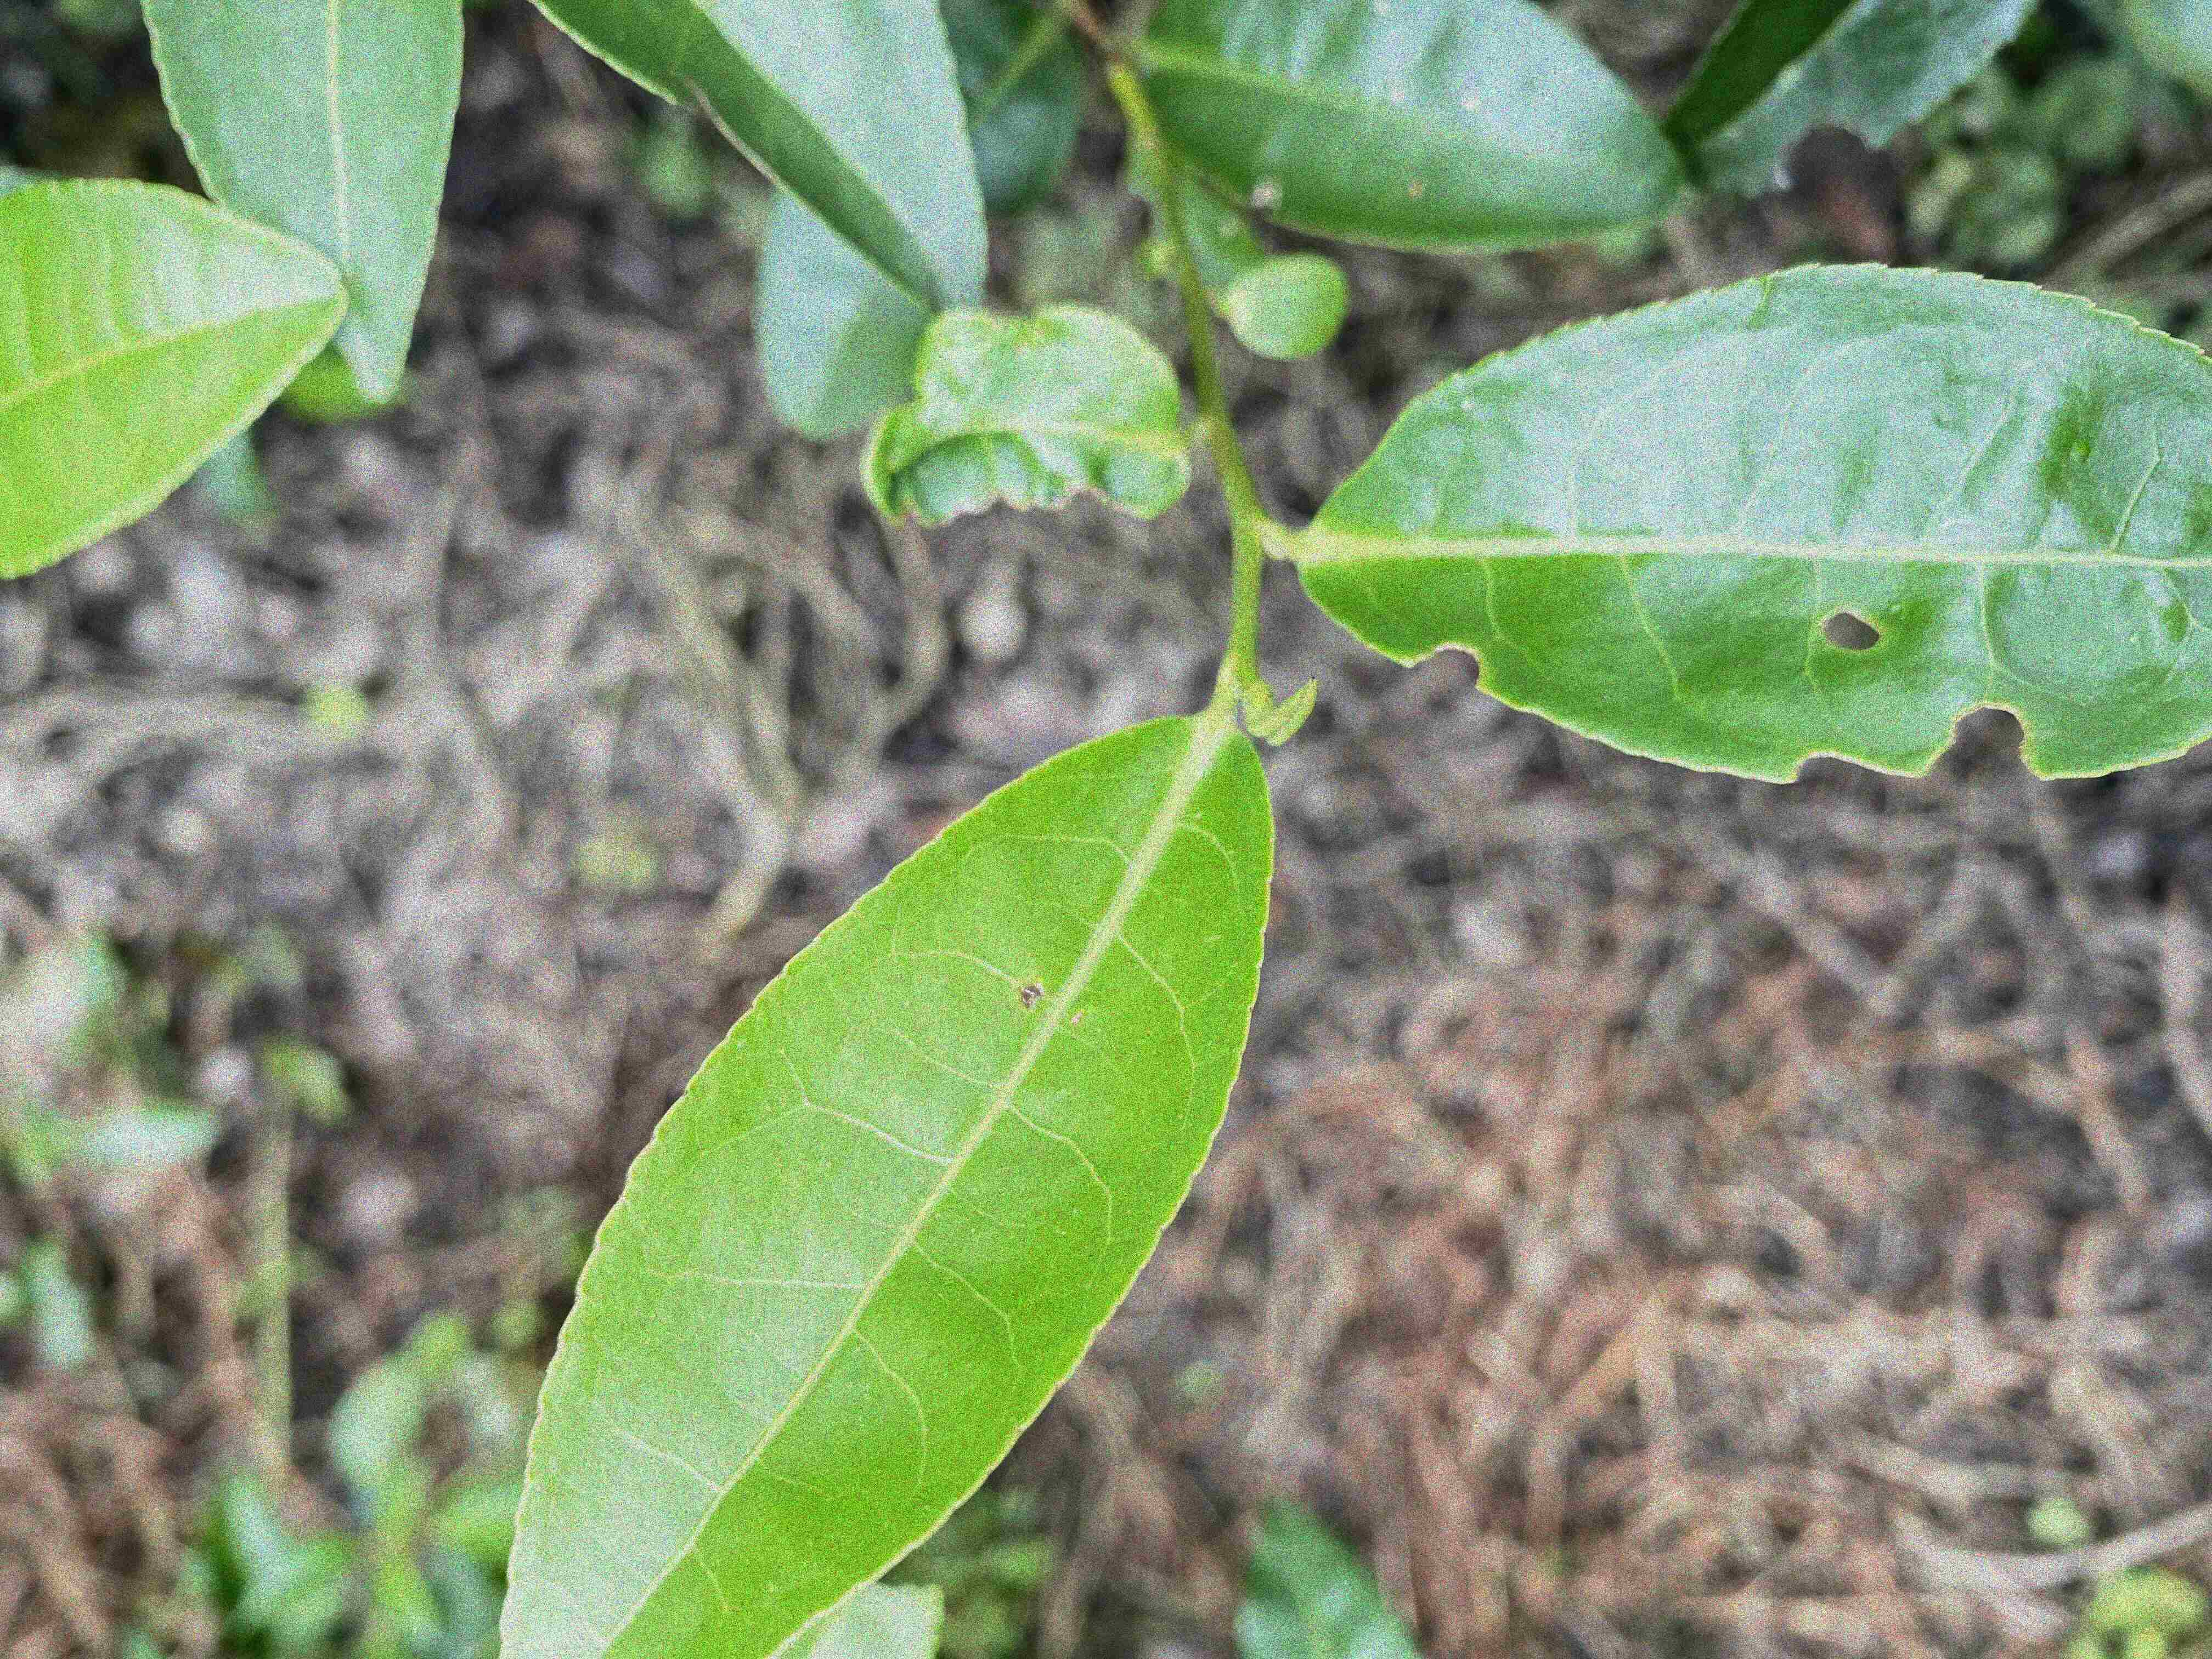chihuo_high: (1303, 261, 2210, 786), (857, 301, 1193, 533)
tanju_low: (491, 716, 1277, 1656)
